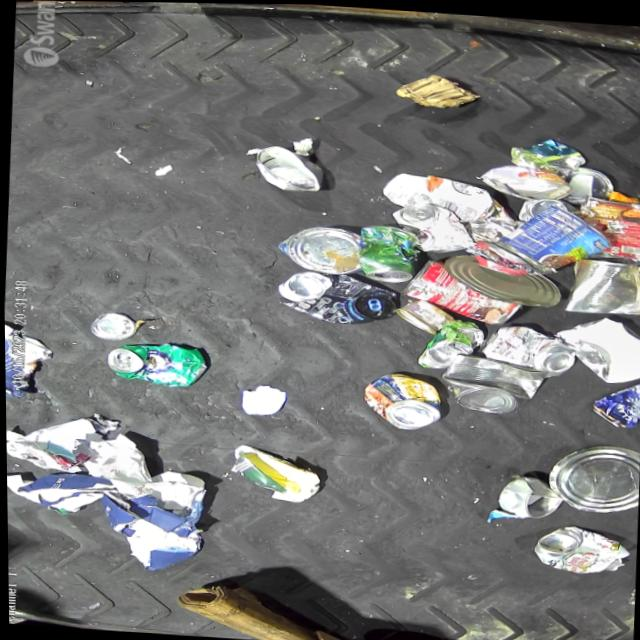can: (492, 200, 616, 278), (400, 254, 524, 324), (274, 266, 398, 325), (544, 437, 640, 513), (439, 349, 549, 413), (443, 251, 562, 305), (531, 520, 632, 574), (480, 320, 576, 376), (360, 368, 443, 429), (103, 339, 207, 387), (561, 253, 640, 313), (389, 200, 476, 253), (275, 220, 361, 273), (578, 193, 640, 259), (355, 224, 421, 283), (248, 142, 323, 192), (478, 161, 574, 200), (416, 315, 485, 369), (499, 471, 564, 518), (587, 370, 640, 426), (394, 296, 454, 334), (561, 162, 615, 204), (516, 194, 577, 221), (89, 309, 136, 340), (395, 639, 491, 640)
